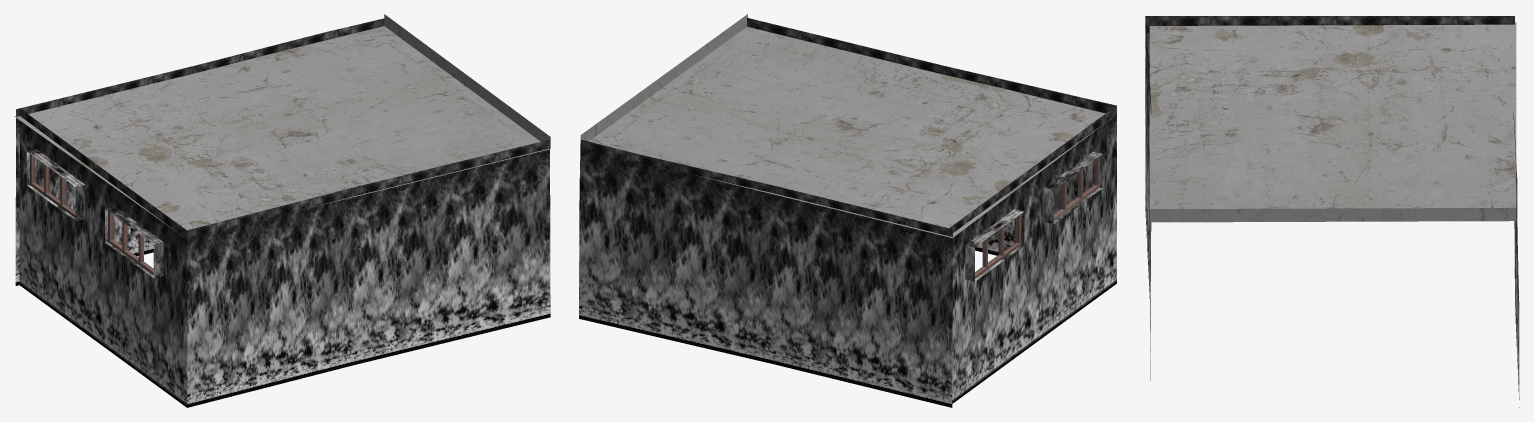
3 views of the same model, side by side, from view 1: azimuth 30°, elevation 25°; view 2: azimuth 150°, elevation 25°; view 3: azimuth 270°, elevation 25° (orthographic). The views are drawn at different scales.
Visible parts, largest first — view 1: sm_GarageInside_01_02_LOD0; view 2: sm_GarageInside_01_02_LOD0; view 3: sm_GarageInside_01_02_LOD0.
Part boxes in pixels (x1,y1,x2,y2): sm_GarageInside_01_02_LOD0: [14, 14, 550, 407]; sm_GarageInside_01_02_LOD0: [579, 14, 1116, 407]; sm_GarageInside_01_02_LOD0: [1145, 16, 1519, 407].
Size of the model in its own units: 507 by 647 by 299.
